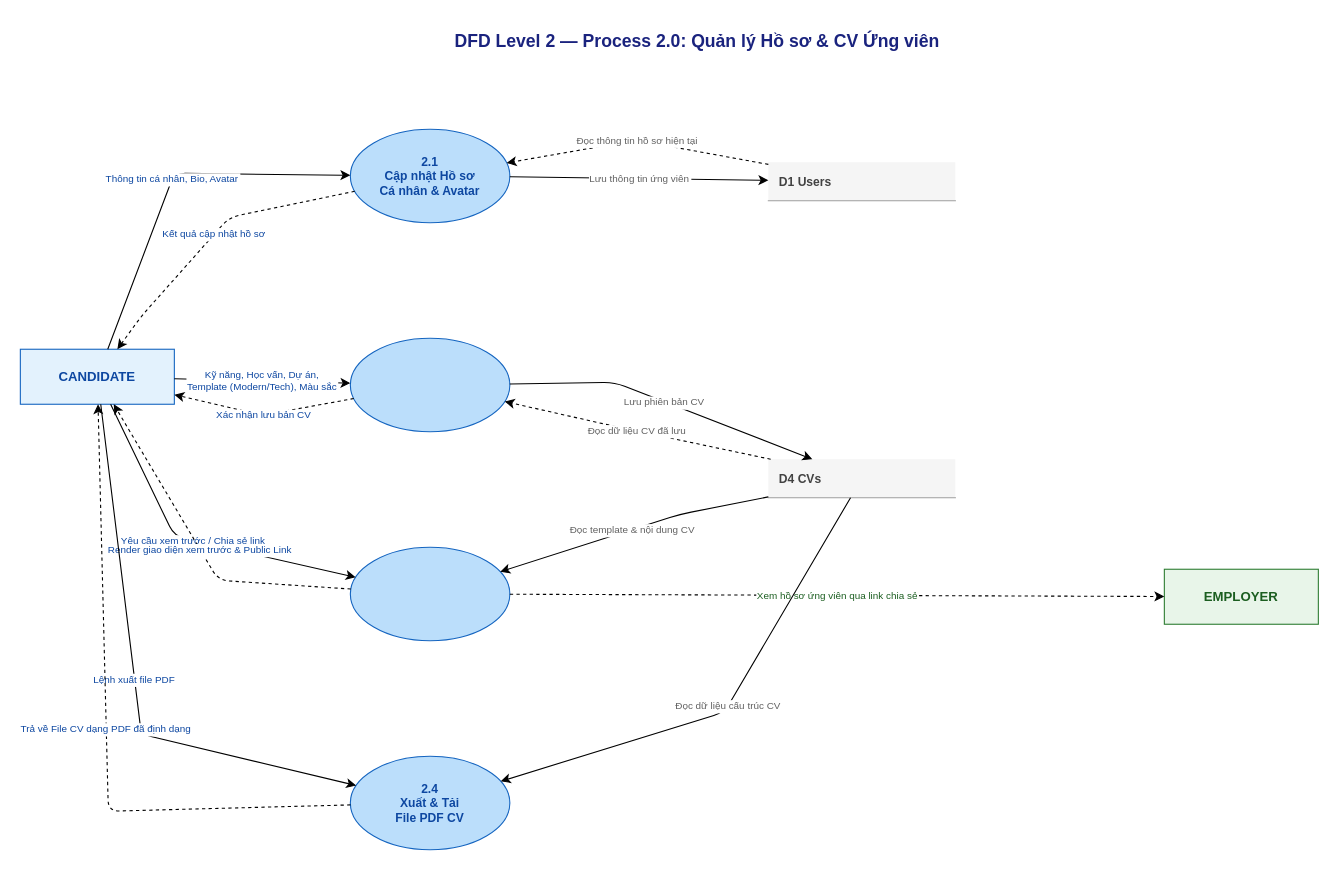
Some shapes in this 1338 by 869 pixel diagram are drawn without their labels. Here are the shapes that lost their labels. From the top down, the centre of each, then its label:
At point 429,384: "2.2 Tạo & Chỉnh sửa CV (CV Builder)".
At point 429,593: "2.3 Xem trước & Chia sẻ Hồ sơ".
